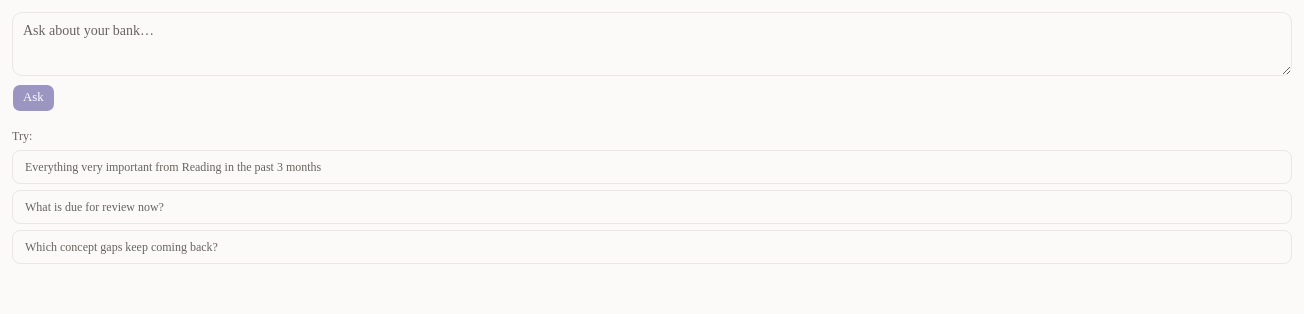
Test: Ask › reports a failed request instead of showing a stale answer
This screenshot has width=1304, height=314.
Type "everything" into the text box labelled "Ask about your bank".
click(652, 44); type("everything")  # box x1=12 y1=12 x2=1292 y2=76
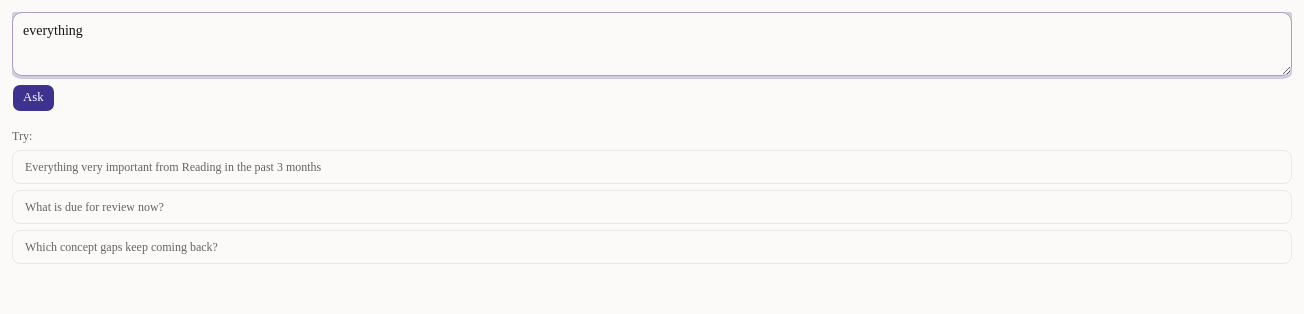
Click the button "Ask".
click(33, 98)  # box x1=12 y1=84 x2=55 y2=112
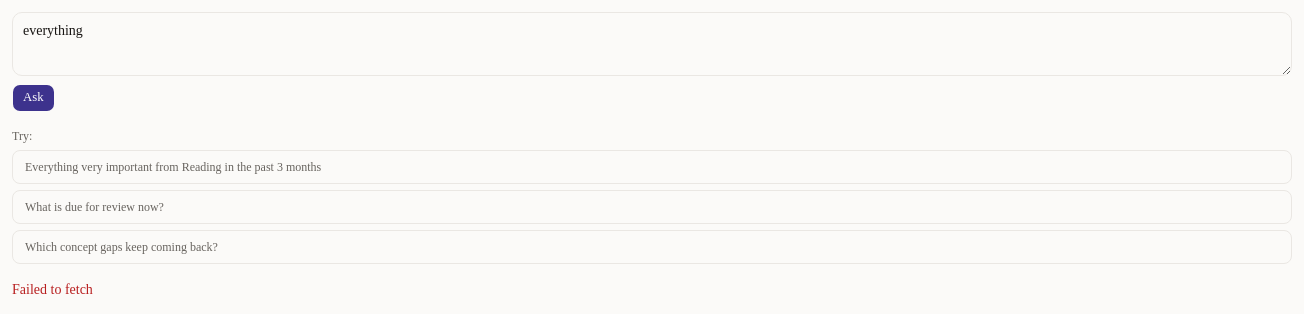
Expected: the text "Failed to fetch" is shown, x1=12 y1=282 x2=93 y2=297
